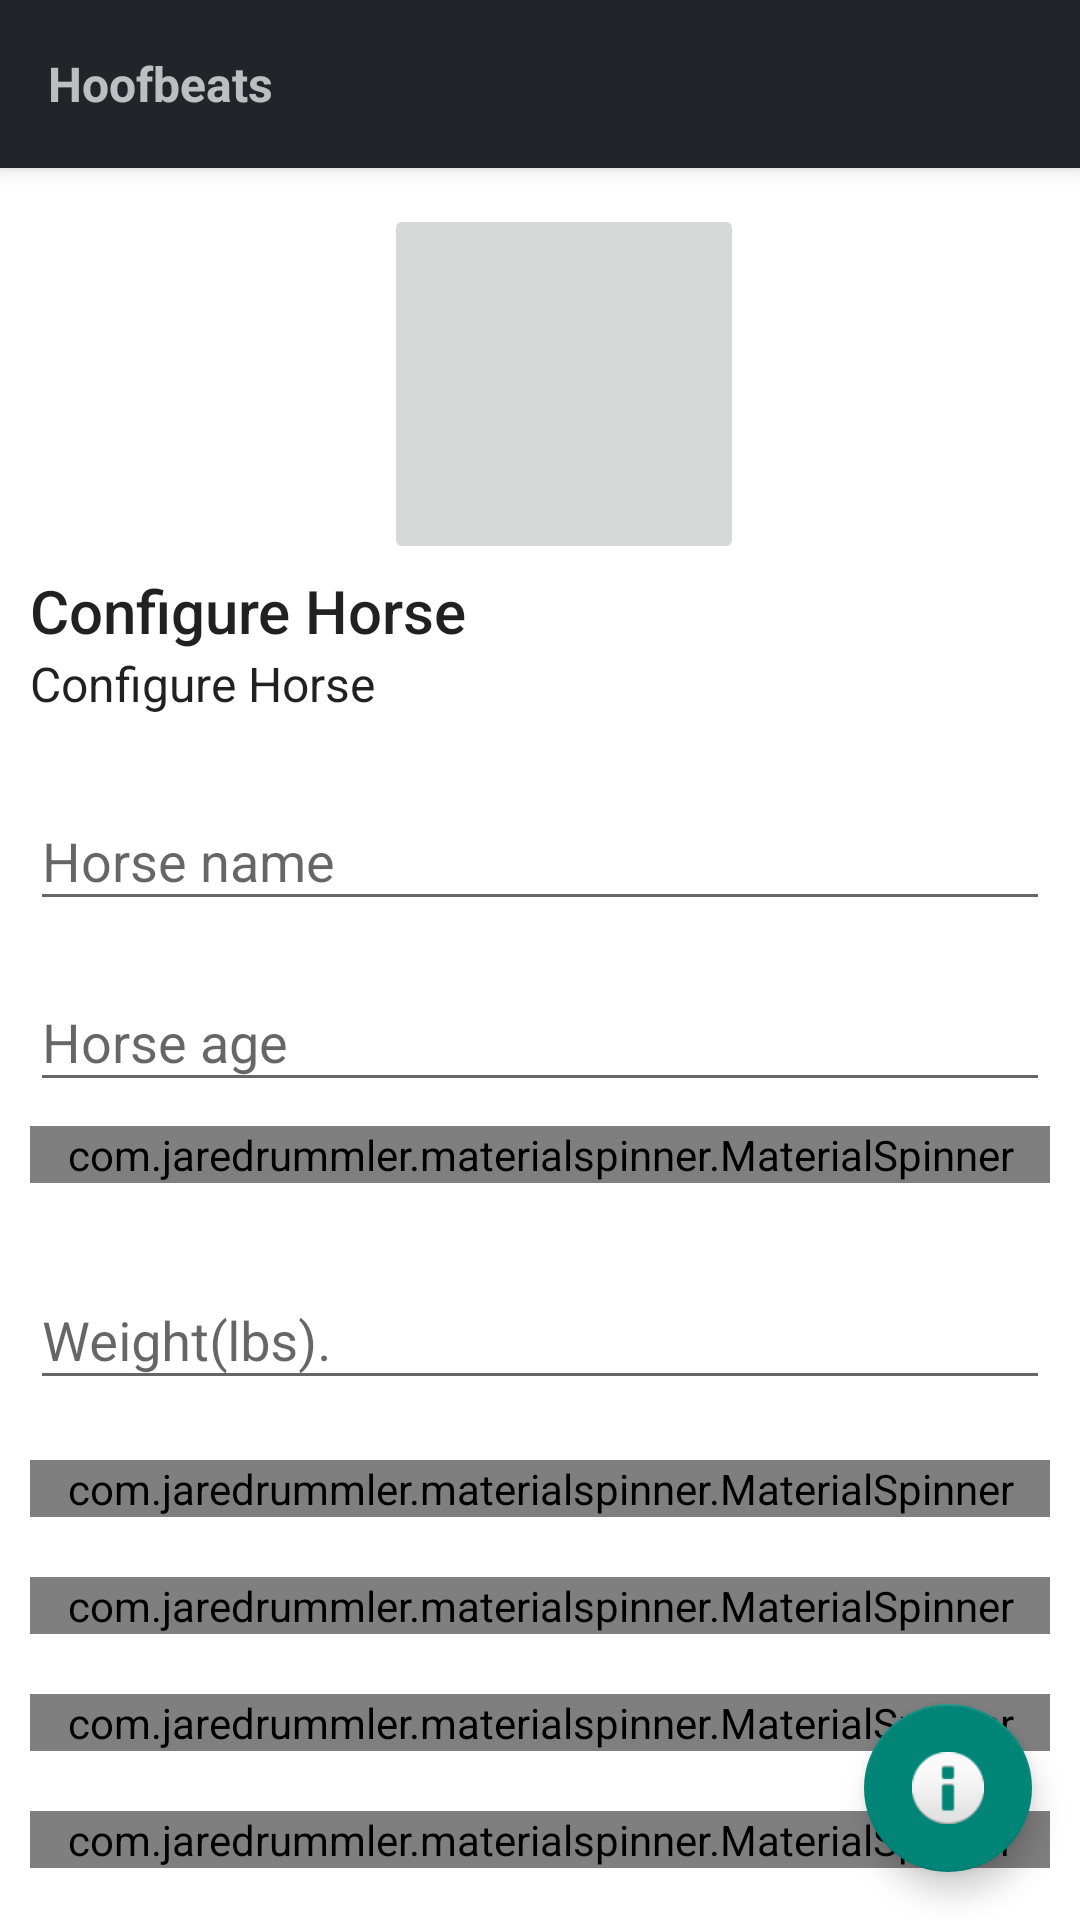

Where to tap for icons on this 1080x1920 app screen, as (x=x, y=y):
info: (x=948, y=1788)
